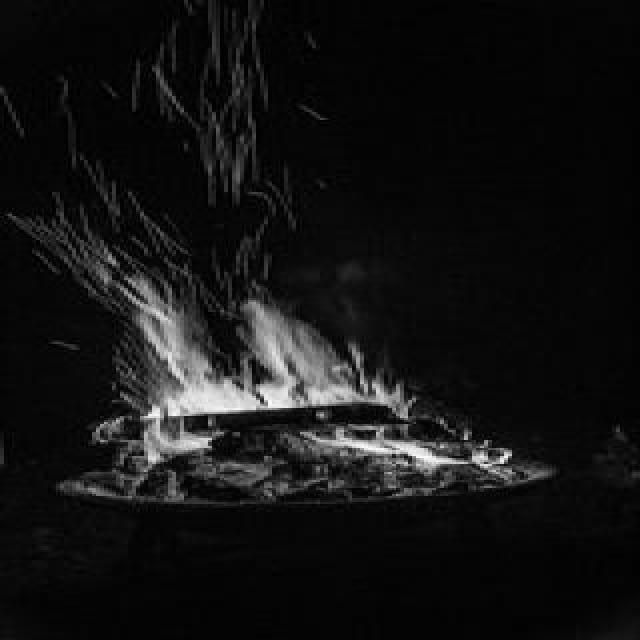Fire: (106, 302, 482, 478)
